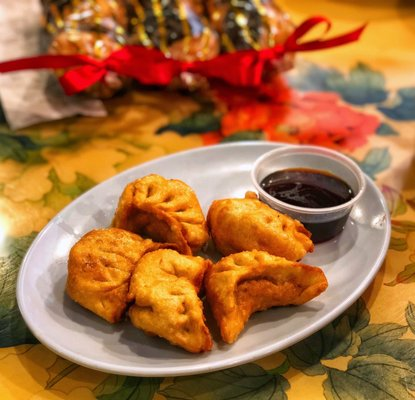pizza: (249, 145, 389, 243)
